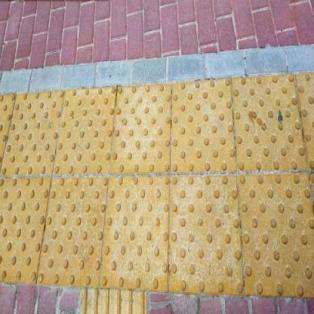Podoctatil: (1, 70, 314, 313)
